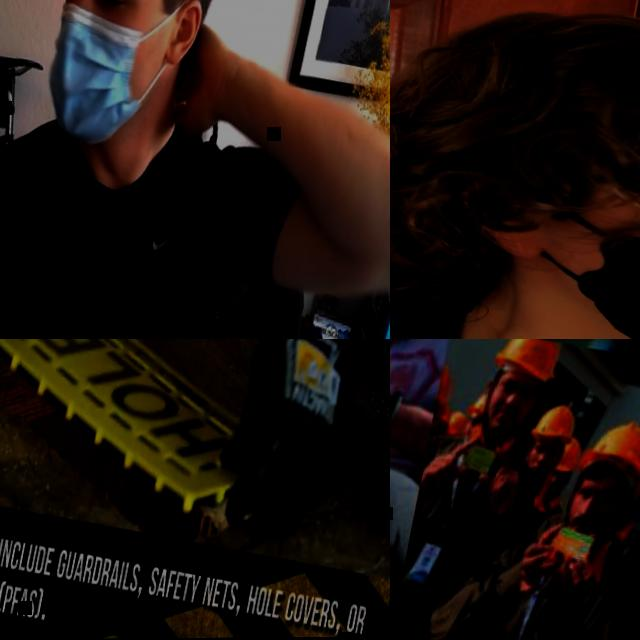Hardhat: (580, 413, 640, 487), (492, 339, 569, 385), (524, 399, 578, 444), (553, 440, 586, 478), (433, 365, 458, 409), (440, 409, 470, 437), (469, 393, 486, 422)
Mask: (486, 152, 640, 339), (37, 0, 188, 159)
NO-Hardhat: (424, 0, 640, 170)
NO-Mask: (484, 400, 530, 441), (567, 509, 614, 544), (526, 461, 550, 482), (542, 484, 562, 501)
NO-Safety Vest: (0, 88, 236, 339), (393, 428, 518, 640), (437, 531, 609, 640), (390, 339, 449, 471), (610, 549, 640, 640), (526, 494, 561, 538)
Person: (0, 0, 390, 339), (390, 0, 640, 339), (0, 339, 390, 549), (414, 387, 640, 640), (390, 339, 547, 640), (568, 357, 640, 640), (390, 339, 452, 640), (596, 463, 640, 638), (522, 439, 582, 541), (520, 400, 574, 498), (431, 366, 463, 447), (613, 466, 640, 550), (446, 406, 471, 445)
